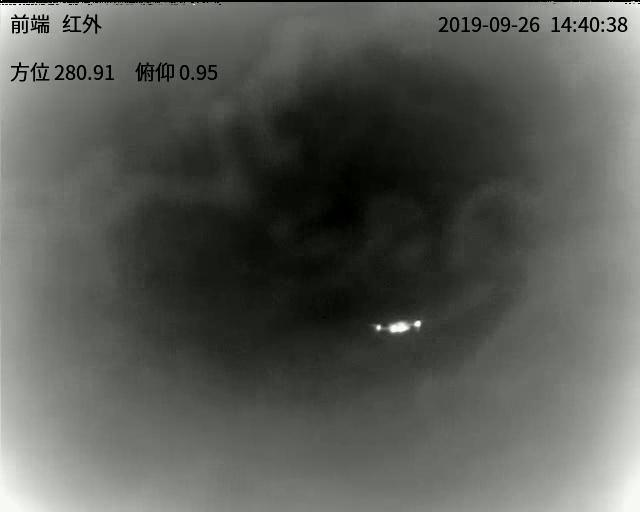DRONE: (372, 319, 424, 335)
